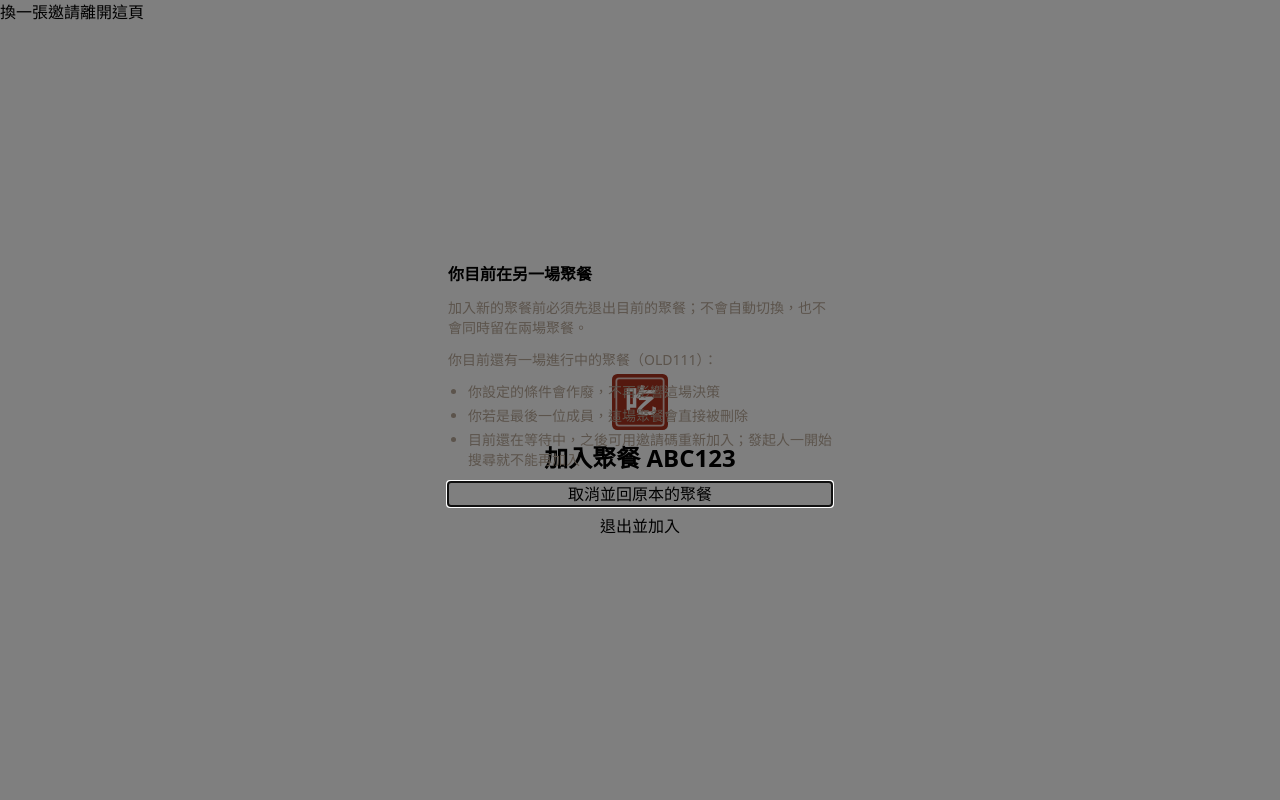
Test: 確認離房後才加入 › HTTP 500 keeps the original room dialog and never joins
The width and height of the screenshot is (1280, 800).
Click the button "退出並加入".
click(640, 526)  # box [448,514,832,538]
(page scrolled)
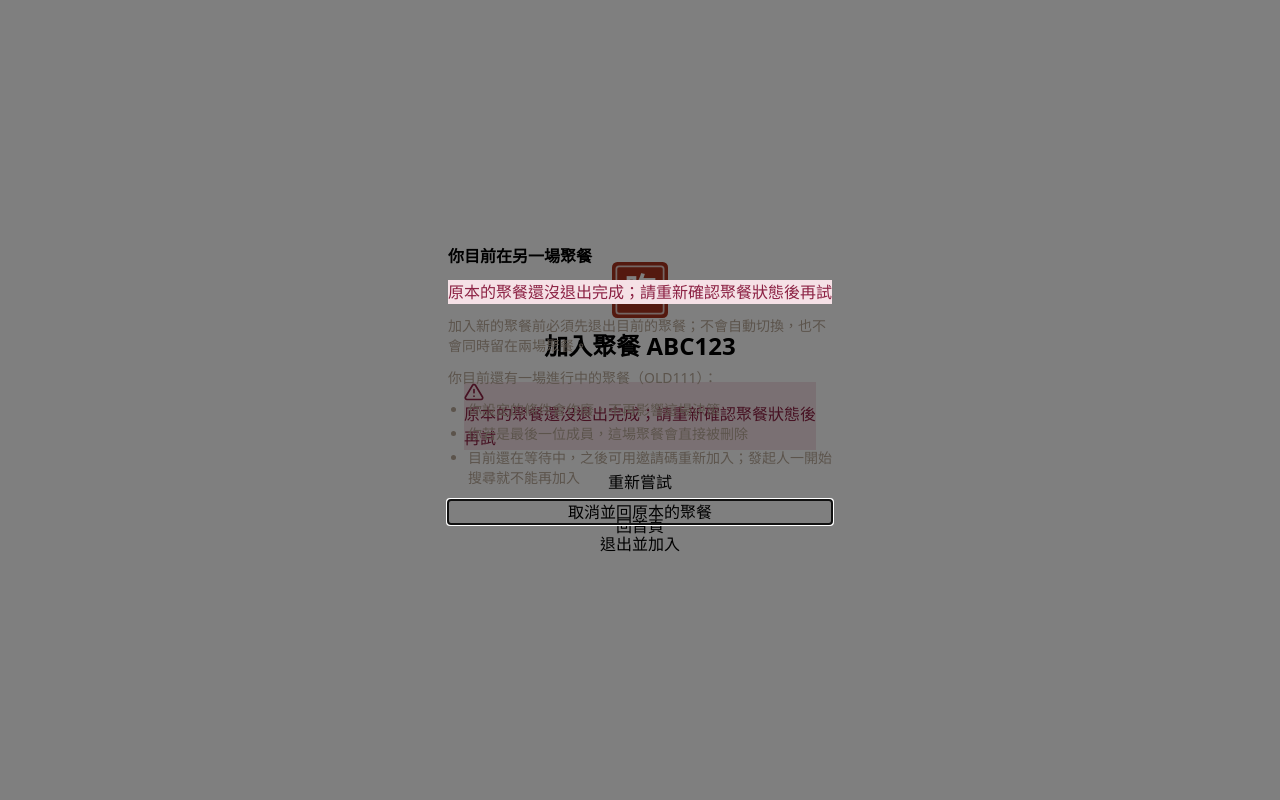
Expected: the button "退出並加入" is enabled, [448,532,832,556]
Result: the message reads "原本的聚餐還沒退出完成；請重新確認聚餐狀態後再試" at [448,281,832,303]
